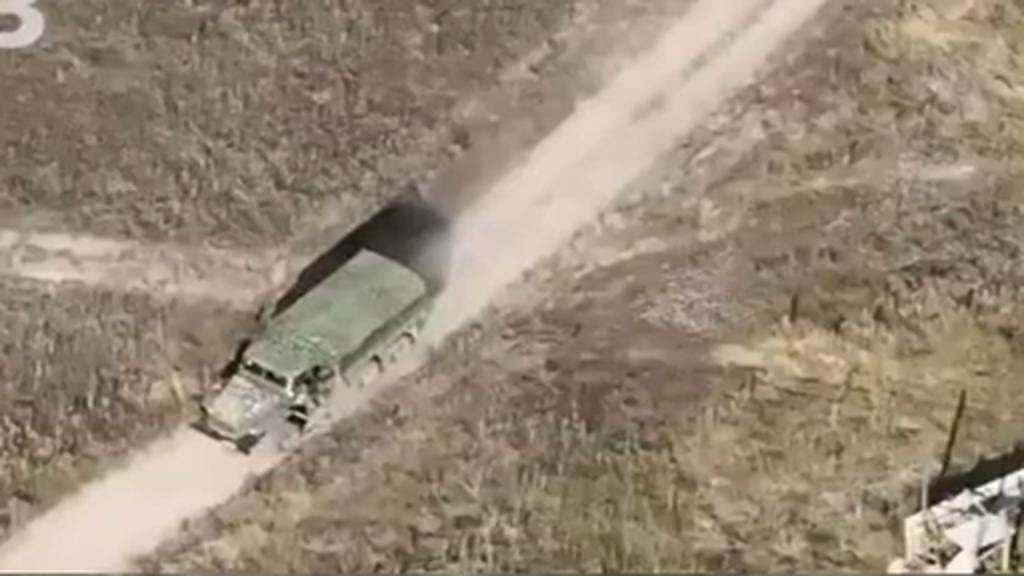TRUCK: (180, 240, 432, 458)
